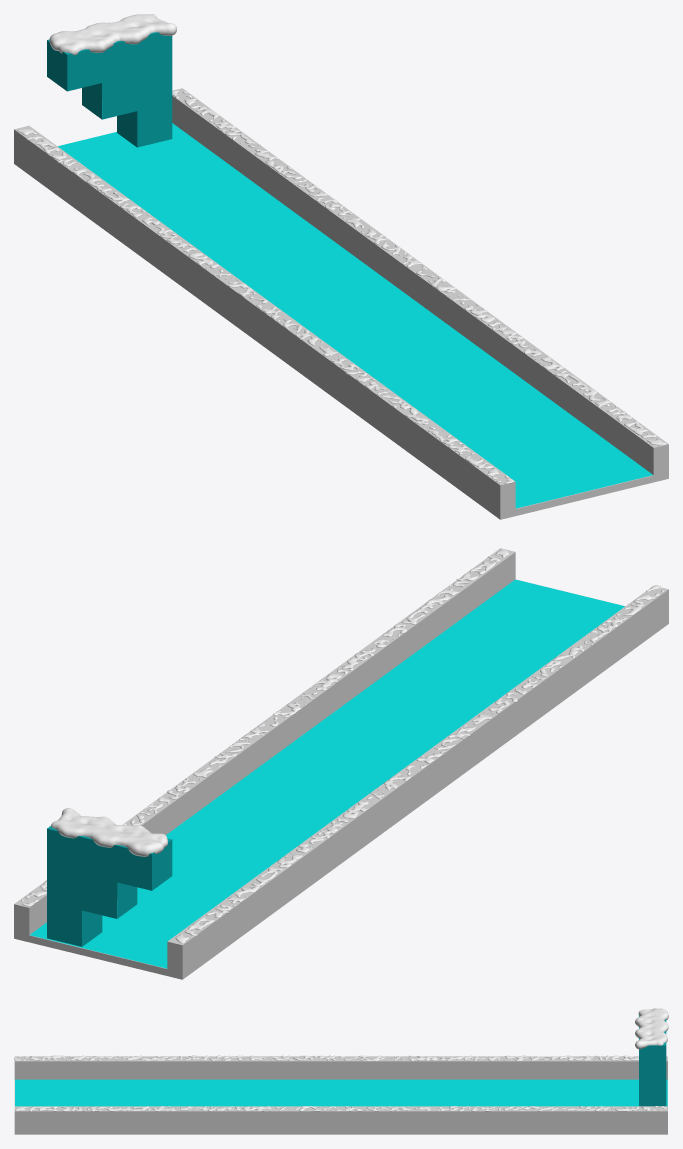
Rendered from Map124.fbx.
3 renders of one model, top to bottom at view 1: azimuth 30°, elevation 25°; view 2: azimuth 150°, elevation 25°; view 3: azimuth 270°, elevation 25°, orthographic. The views are drawn at different scales.
Visible parts, largest first — view 1: Plane.001, Cube.001, Cube, SnowBall.002, SnowBall.003, SnowBall.001; view 2: Plane.001, Cube.001, Cube, SnowBall.003, SnowBall.002, SnowBall.001; view 3: Cube.001, Plane.001, SnowBall.002, SnowBall.003, Cube, SnowBall.001.
Boxes of the visible parts, left/top/right/bottom form: Plane.001: left=58, top=123, right=652, bottom=508; Cube.001: left=14, top=88, right=668, bottom=519; Cube: left=47, top=32, right=172, bottom=147; SnowBall.002: left=172, top=90, right=666, bottom=445; SnowBall.003: left=17, top=129, right=513, bottom=483; SnowBall.001: left=49, top=14, right=176, bottom=55; Plane.001: left=30, top=579, right=624, bottom=968; Cube.001: left=14, top=548, right=668, bottom=979; Cube: left=47, top=826, right=172, bottom=946; SnowBall.003: left=175, top=585, right=663, bottom=943; SnowBall.002: left=21, top=548, right=509, bottom=906; SnowBall.001: left=51, top=808, right=167, bottom=856; Cube.001: left=14, top=1056, right=667, bottom=1134; Plane.001: left=15, top=1079, right=667, bottom=1106; SnowBall.002: left=15, top=1106, right=666, bottom=1111; SnowBall.003: left=14, top=1055, right=638, bottom=1060; Cube: left=639, top=1015, right=666, bottom=1106; SnowBall.001: left=635, top=1008, right=668, bottom=1049.
Size of the model in its own units: 244 by 168 by 1206.
